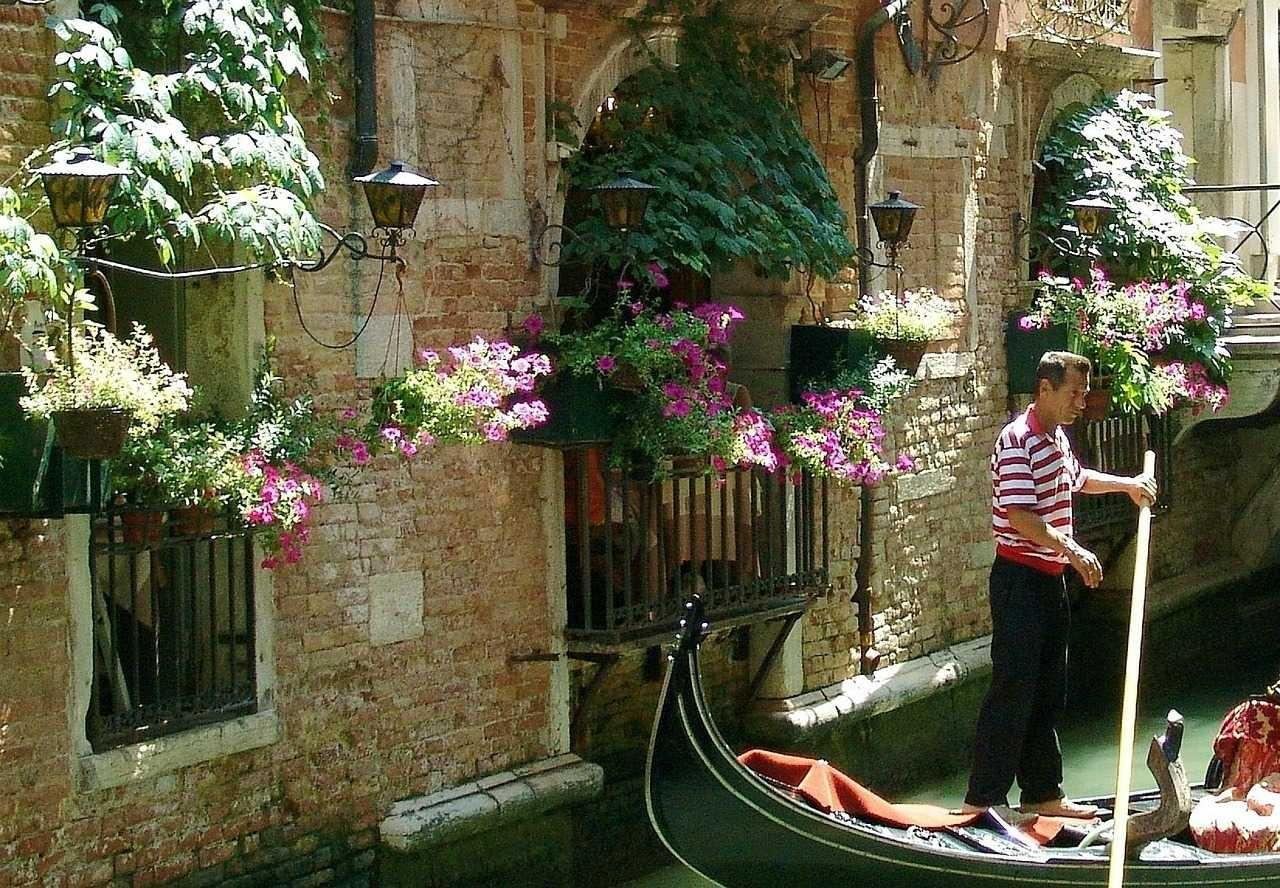kayak: (645, 593, 1278, 885)
